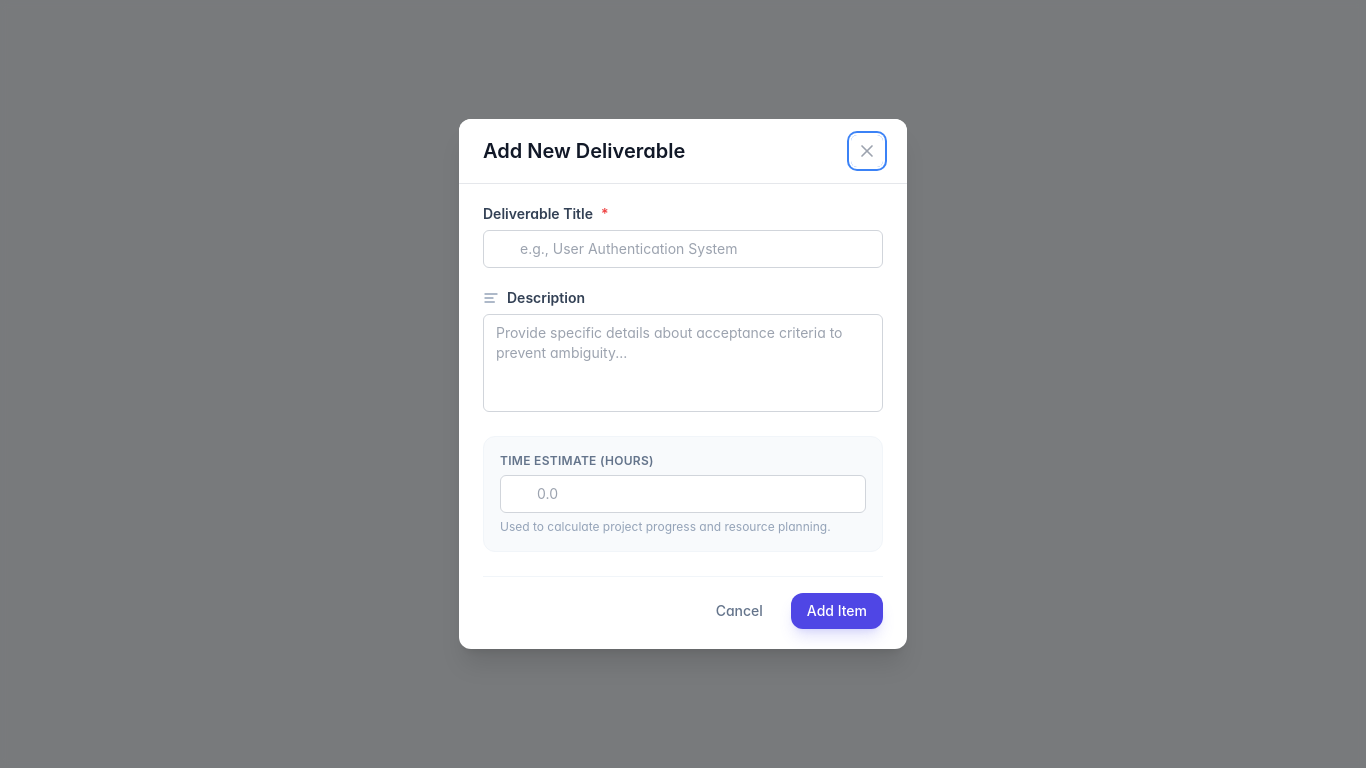
Test: ScopeItemForm › Validation › should show error when title is empty
The width and height of the screenshot is (1366, 768).
Click the button "Add Item" at (837, 611), box [791,593,883,629]
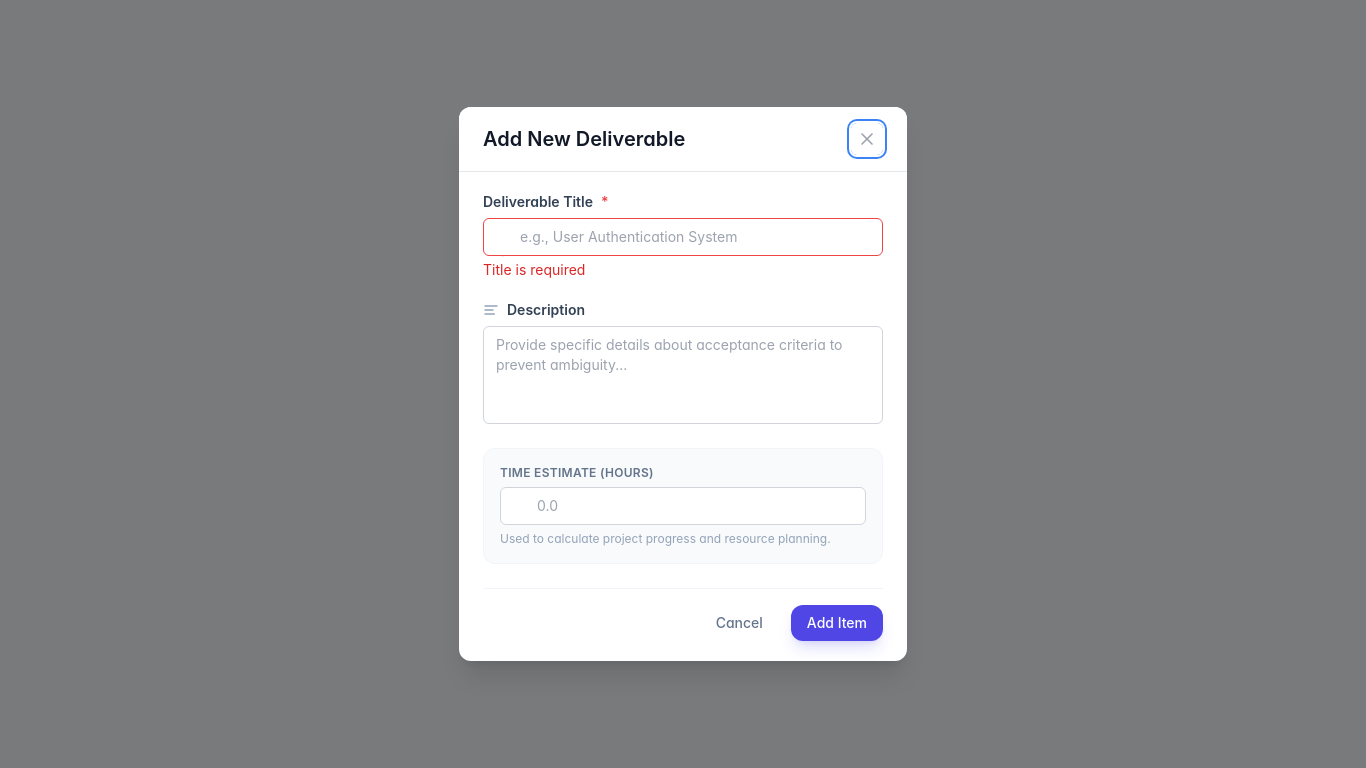
expect the text "Title is required" is shown: met, box [483,261,585,278]
